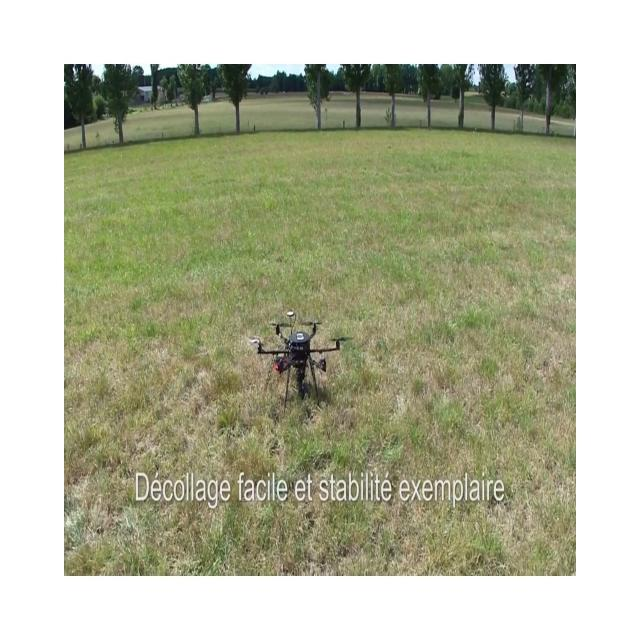drone: (248, 308, 352, 411)
